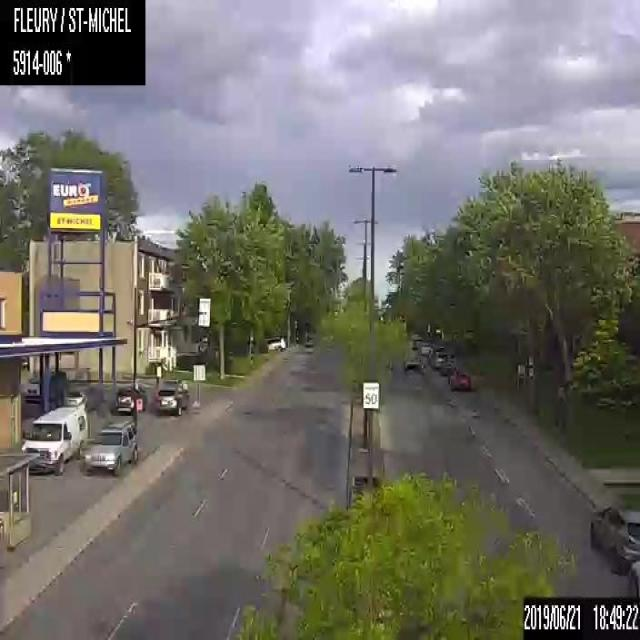vehicle: (21, 405, 88, 474), (589, 504, 639, 569), (79, 421, 137, 475), (153, 382, 189, 415), (116, 382, 145, 412), (447, 367, 470, 389), (627, 560, 639, 597), (23, 375, 39, 401), (65, 391, 86, 406), (264, 336, 285, 350), (430, 344, 443, 366), (417, 341, 430, 355)
